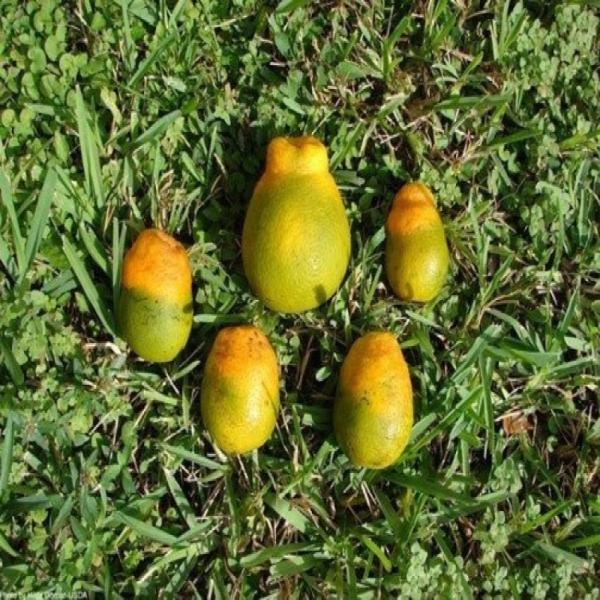Greening: (226, 126, 359, 319), (202, 319, 294, 469), (112, 219, 208, 360), (332, 326, 420, 473), (378, 175, 463, 306)
